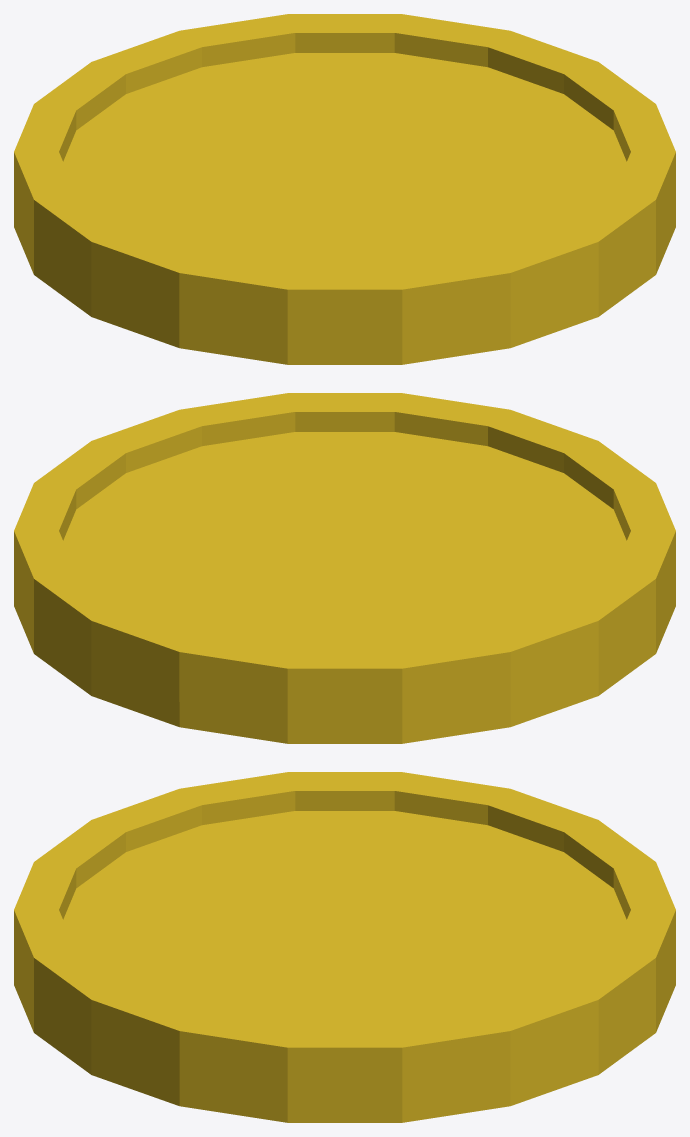
The model's file is Coin.fbx.
The picture shows the model from 3 angles, top to bottom: view 1: azimuth 30°, elevation 25°; view 2: azimuth 150°, elevation 25°; view 3: azimuth 270°, elevation 25°; orthographic projection.
Visible parts, largest first — view 1: Coin; view 2: Coin; view 3: Coin.
Boxes of the visible parts, box(x1,y1,x2,y2) form: Coin: box(14, 14, 675, 364); Coin: box(14, 393, 675, 743); Coin: box(14, 772, 675, 1122).
Size of the model in its own units: 56.86 by 7.24 by 57.74.
